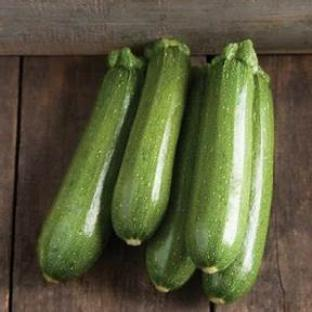Zucchini: (38, 48, 144, 280), (203, 70, 274, 303), (187, 41, 257, 273), (112, 39, 189, 245), (147, 67, 207, 292)
